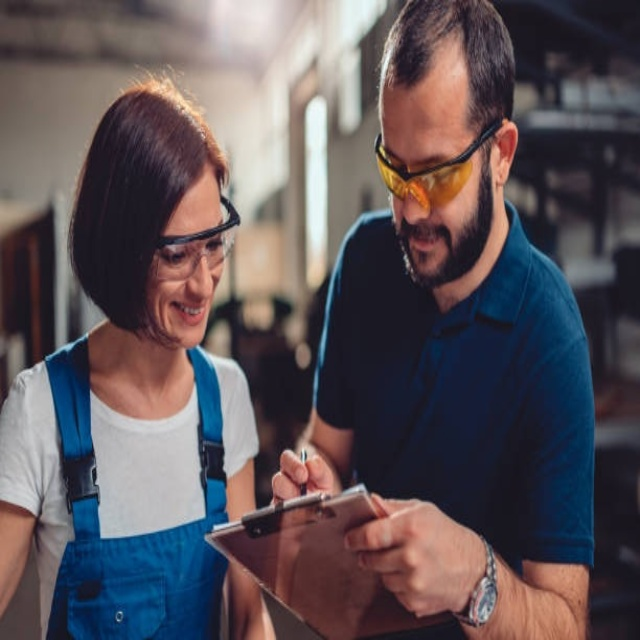Gafas: (375, 120, 503, 213), (149, 198, 239, 282)
Sin_guantes: (342, 496, 478, 622), (274, 446, 336, 504)
Sin_mascara: (398, 220, 447, 271), (164, 292, 219, 337)
